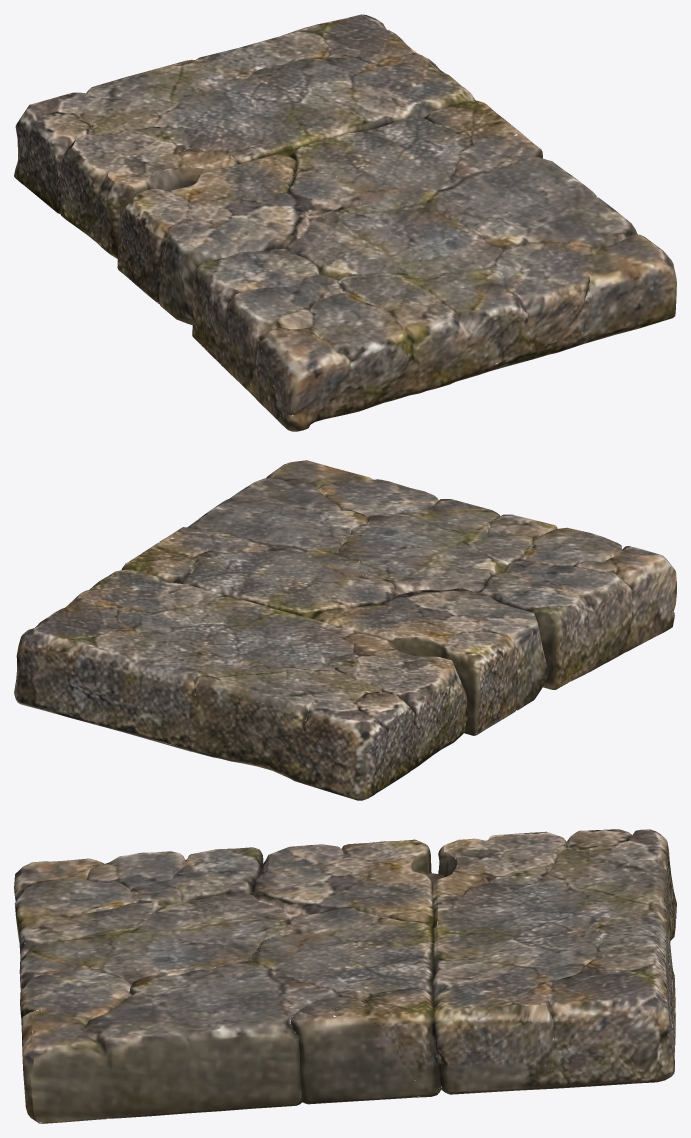
Rendered from piece_01_10364tris.glb.
The picture shows the model from 3 angles, top to bottom: view 1: azimuth 30°, elevation 25°; view 2: azimuth 150°, elevation 25°; view 3: azimuth 270°, elevation 25°; orthographic projection. The views are drawn at different scales.
Parts seen in each view (by area): view 1: Eldoria_MultiPiece_Group_01; view 2: Eldoria_MultiPiece_Group_01; view 3: Eldoria_MultiPiece_Group_01.
Part boxes in pixels (<box>): Eldoria_MultiPiece_Group_01: <box>14,14,676,431</box>; Eldoria_MultiPiece_Group_01: <box>14,460,676,800</box>; Eldoria_MultiPiece_Group_01: <box>14,829,676,1123</box>.
Size of the model in its own units: 0.2869 by 0.0839 by 0.3873.
Materials: 1 (1 with a texture image).
